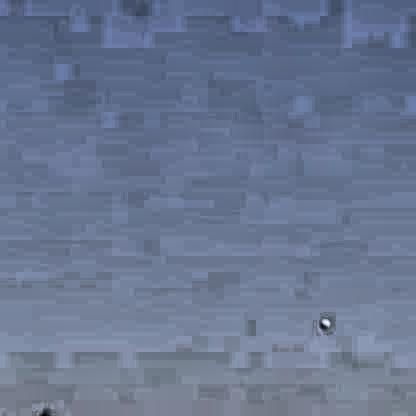golfball: (314, 315, 328, 327)
